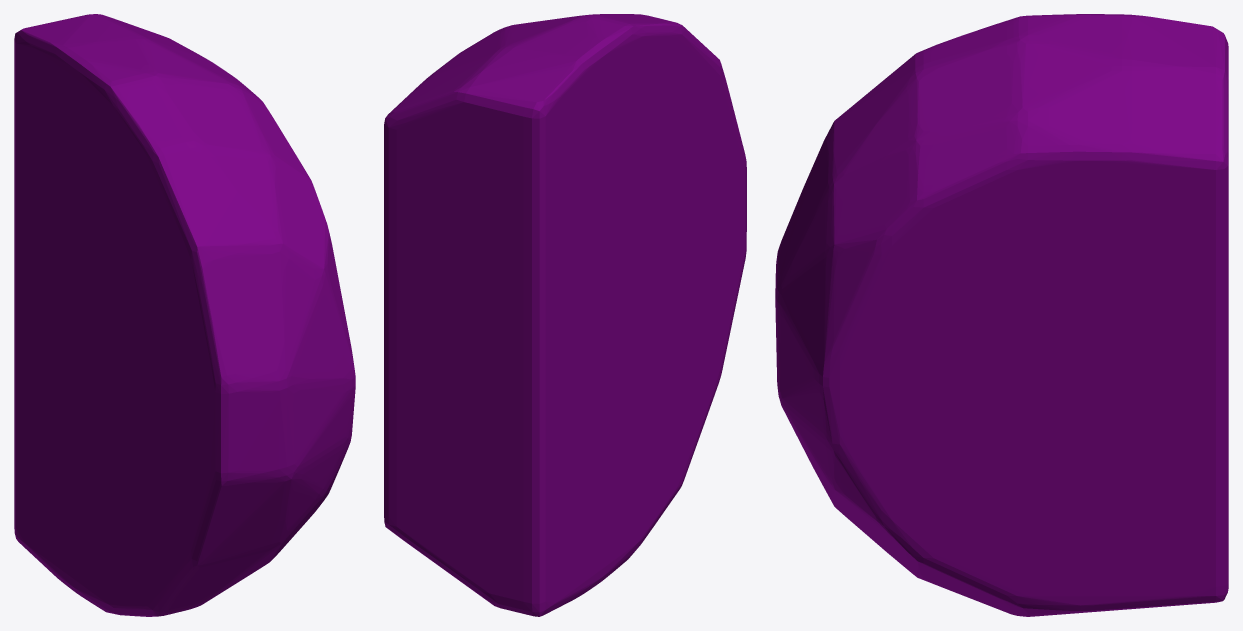
Rendered from left_th_proximal_part_11.obj.
3 renders of one model, left to right at view 1: azimuth 30°, elevation 25°; view 2: azimuth 150°, elevation 25°; view 3: azimuth 270°, elevation 25°, orthographic. The views are drawn at different scales.
Size of the model in its own units: 6.81 by 21.92 by 15.6.
